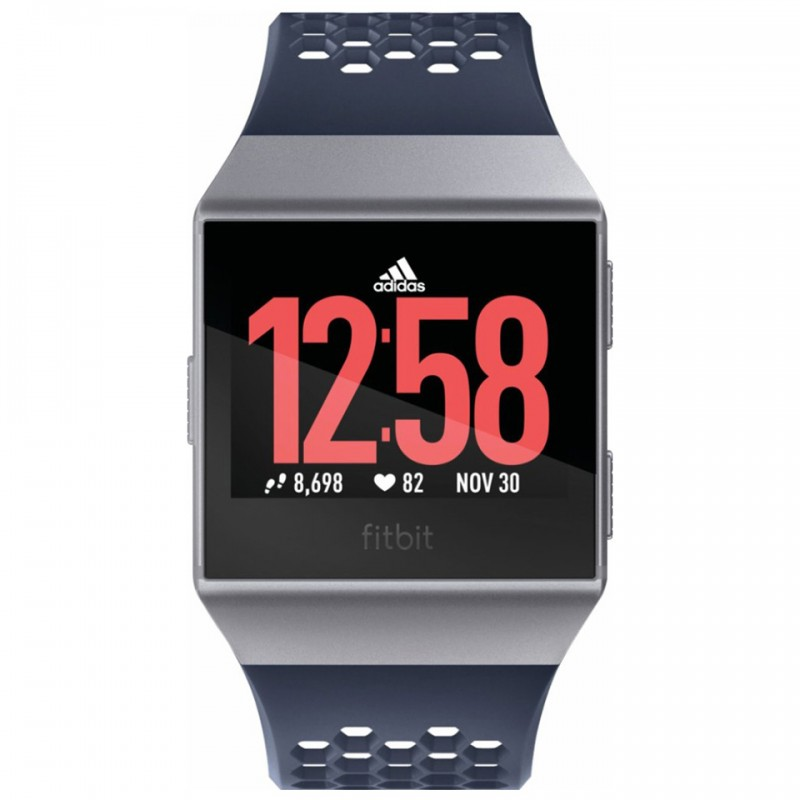Adidas: (366, 252, 429, 297)
